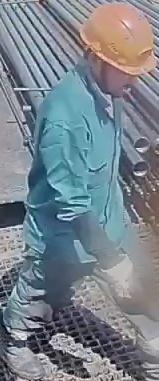gloves: (96, 250, 154, 317)
helmet: (79, 2, 156, 75)
vest: (22, 77, 130, 266)
